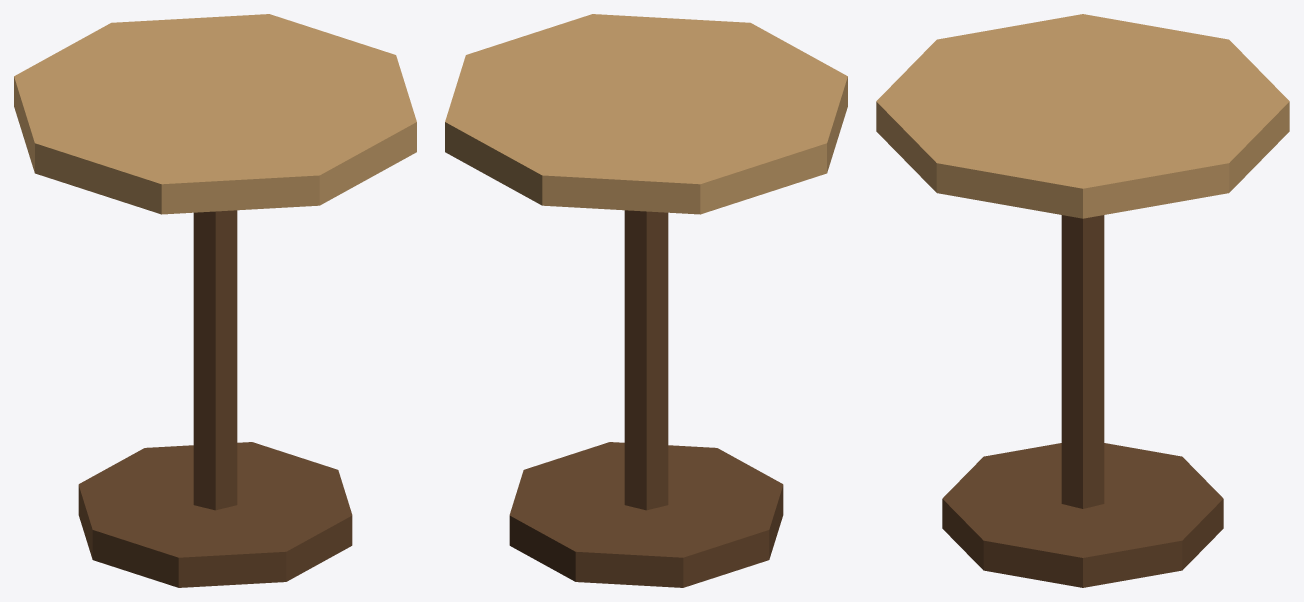
File: GH_Table_Side_01.glb
The picture shows the model from 3 angles, left to right: view 1: azimuth 30°, elevation 25°; view 2: azimuth 150°, elevation 25°; view 3: azimuth 270°, elevation 25°; orthographic projection.
Parts seen in each view (by area): view 1: GH_Table_Side_01; view 2: GH_Table_Side_01; view 3: GH_Table_Side_01.
Boxes of the visible parts, x1,y1,x2,y2 form: GH_Table_Side_01: (14,14,416,587); GH_Table_Side_01: (445,14,847,587); GH_Table_Side_01: (876,14,1289,587).
Bounding box in the file's own units: 0.5 × 0.57 × 0.5.
1 material, 1 textured.
